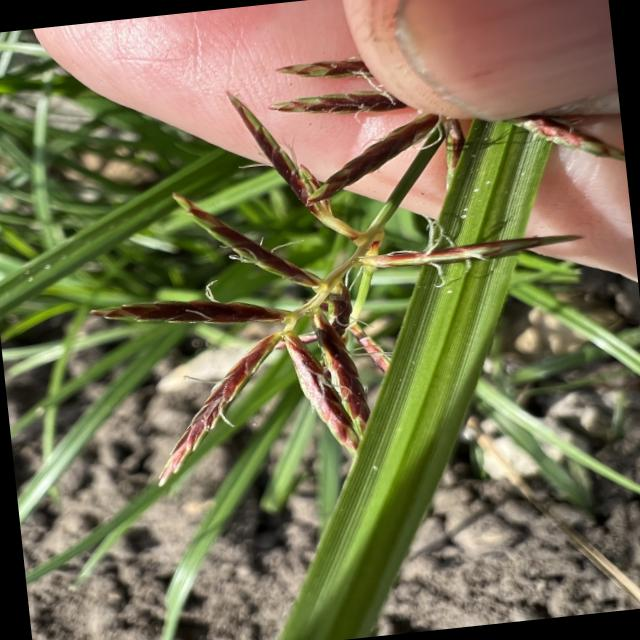cyperus: (67, 14, 640, 512)
